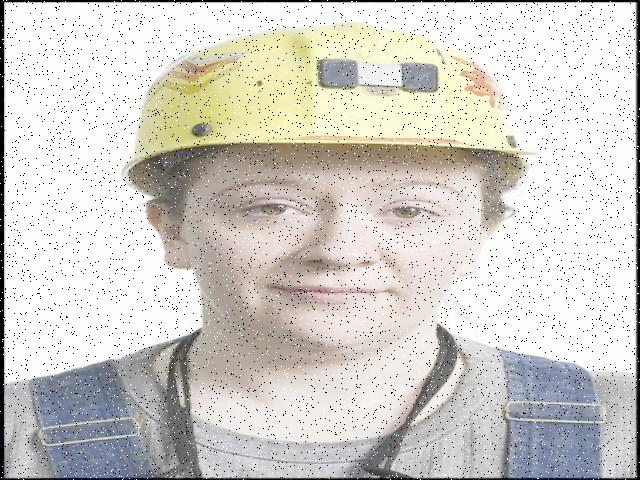Helmet: (112, 17, 550, 196)
